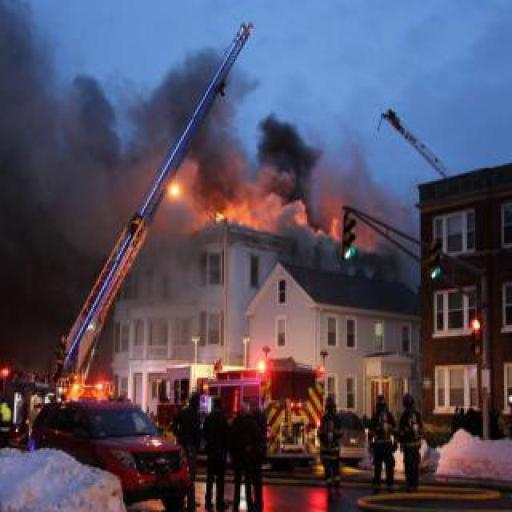smoke: (107, 54, 200, 240), (200, 110, 382, 200), (278, 202, 341, 270), (200, 202, 277, 246)
